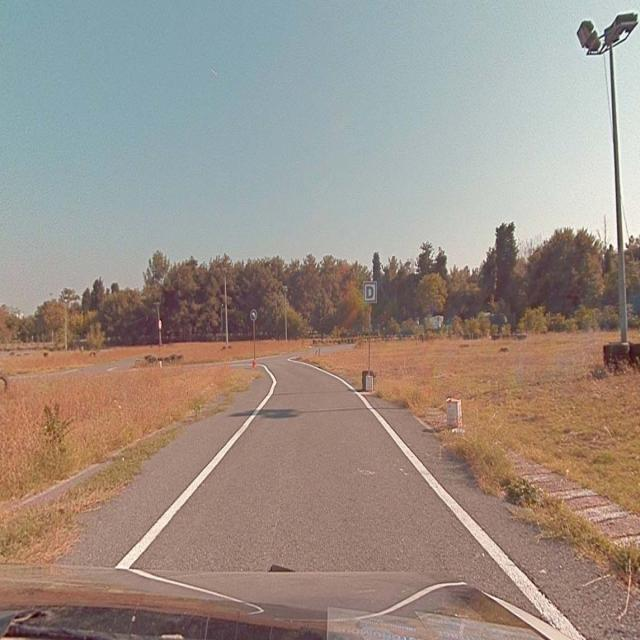durak: (363, 282, 377, 302)
sol: (250, 309, 256, 320)
